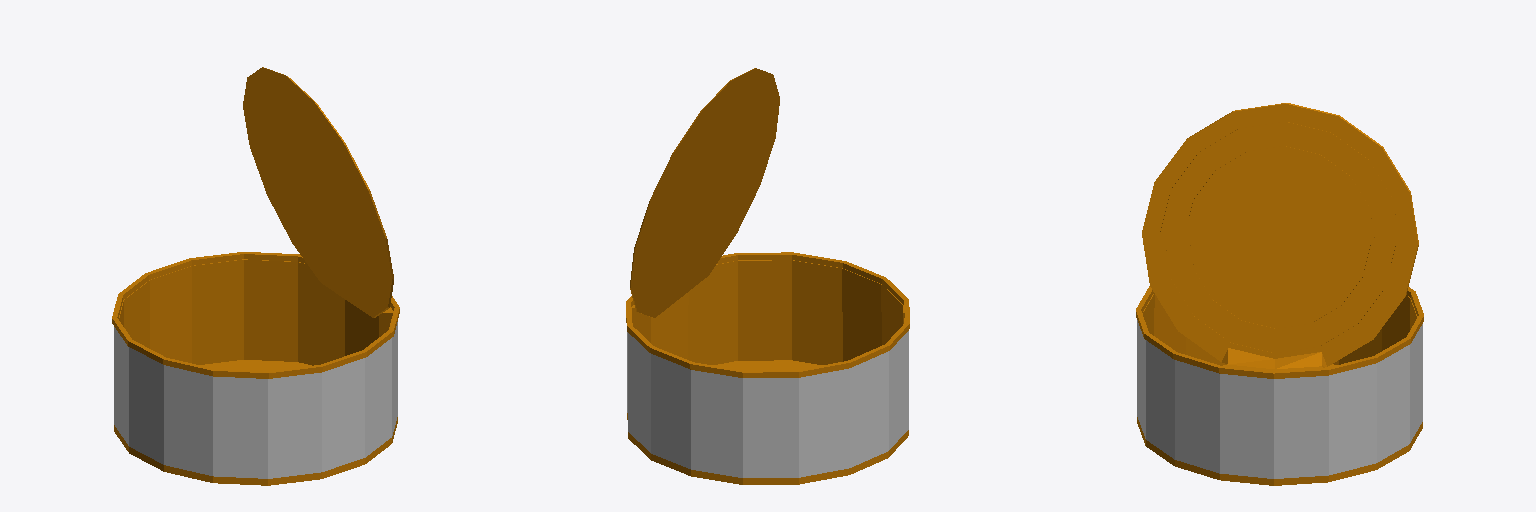
The model's file is conserva_fish_open.obj.
The picture shows the model from 3 angles: view 1: azimuth 30°, elevation 25°; view 2: azimuth 150°, elevation 25°; view 3: azimuth 270°, elevation 25°; orthographic projection.
Parts seen in each view (by area): view 1: Cylinder; view 2: Cylinder; view 3: Cylinder.
Part boxes in pixels (left/top/right/bottom): Cylinder: left=112, top=67, right=399, bottom=485; Cylinder: left=626, top=68, right=909, bottom=484; Cylinder: left=1136, top=103, right=1423, bottom=485.
Bounding box in the file's own units: 2.02 × 2.62 × 2.02.